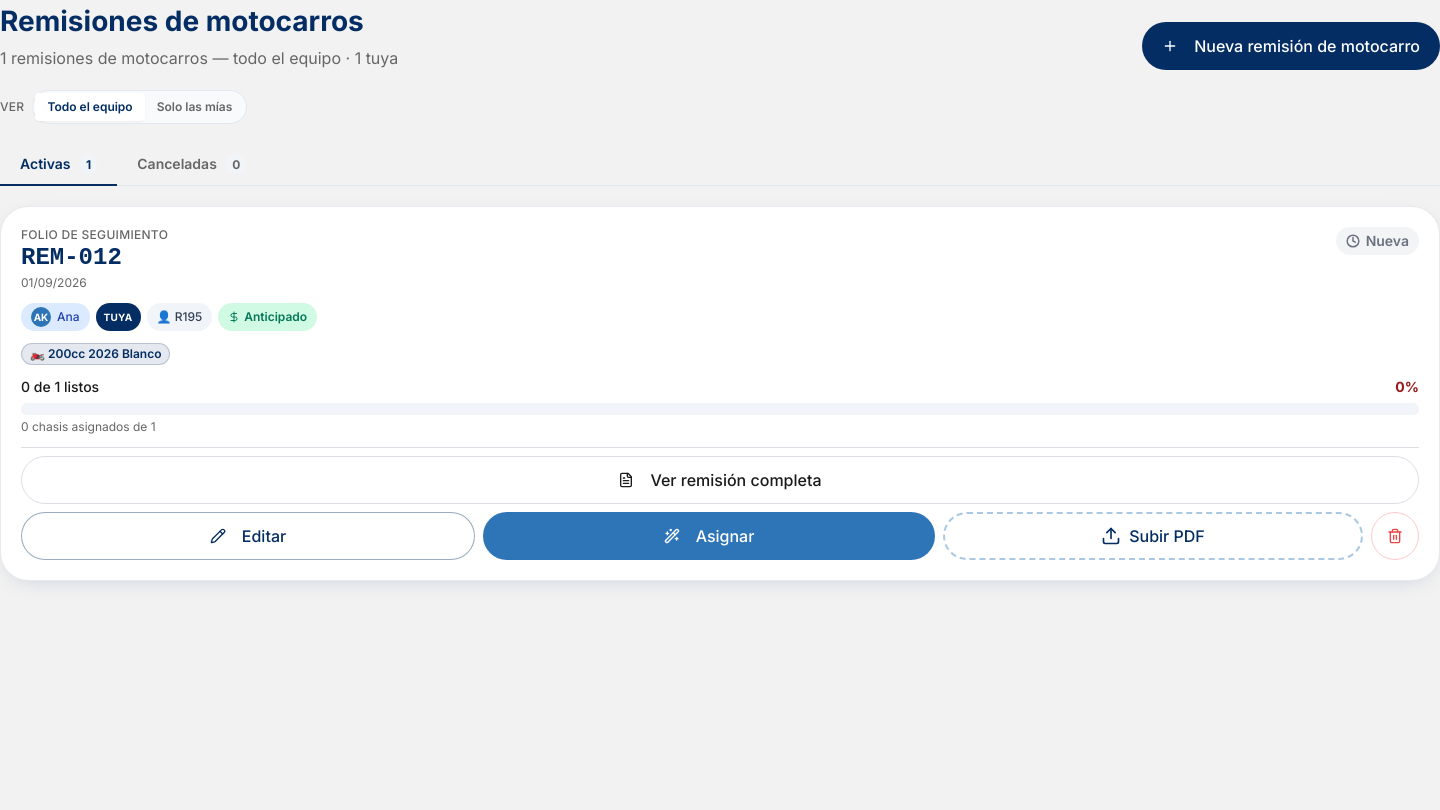
Test: Remisiones · editar y complementar › el diálogo de edición no guarda hasta que se escribe el motivo
The image size is (1440, 810).
Click the button "Editar" at (248, 536), box [21,512,475,560]
(page scrolled)
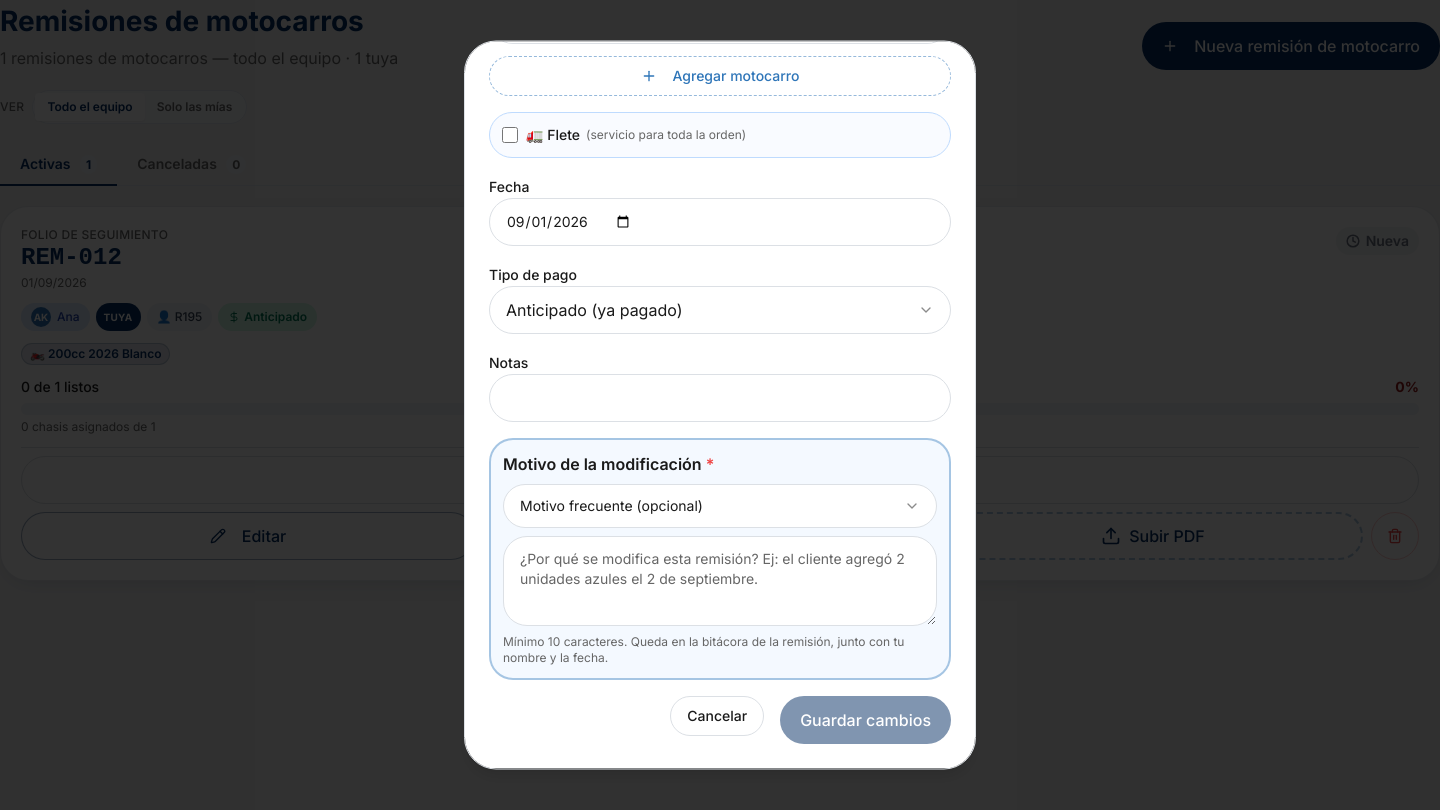
Result: the text "Motivo de la modificación" is shown at [503,454,702,474]
Result: the button "Guardar cambios" is disabled at [780,696,951,744]
Replace the text in the text box with "corto" at (720, 582), box [503,536,937,626]
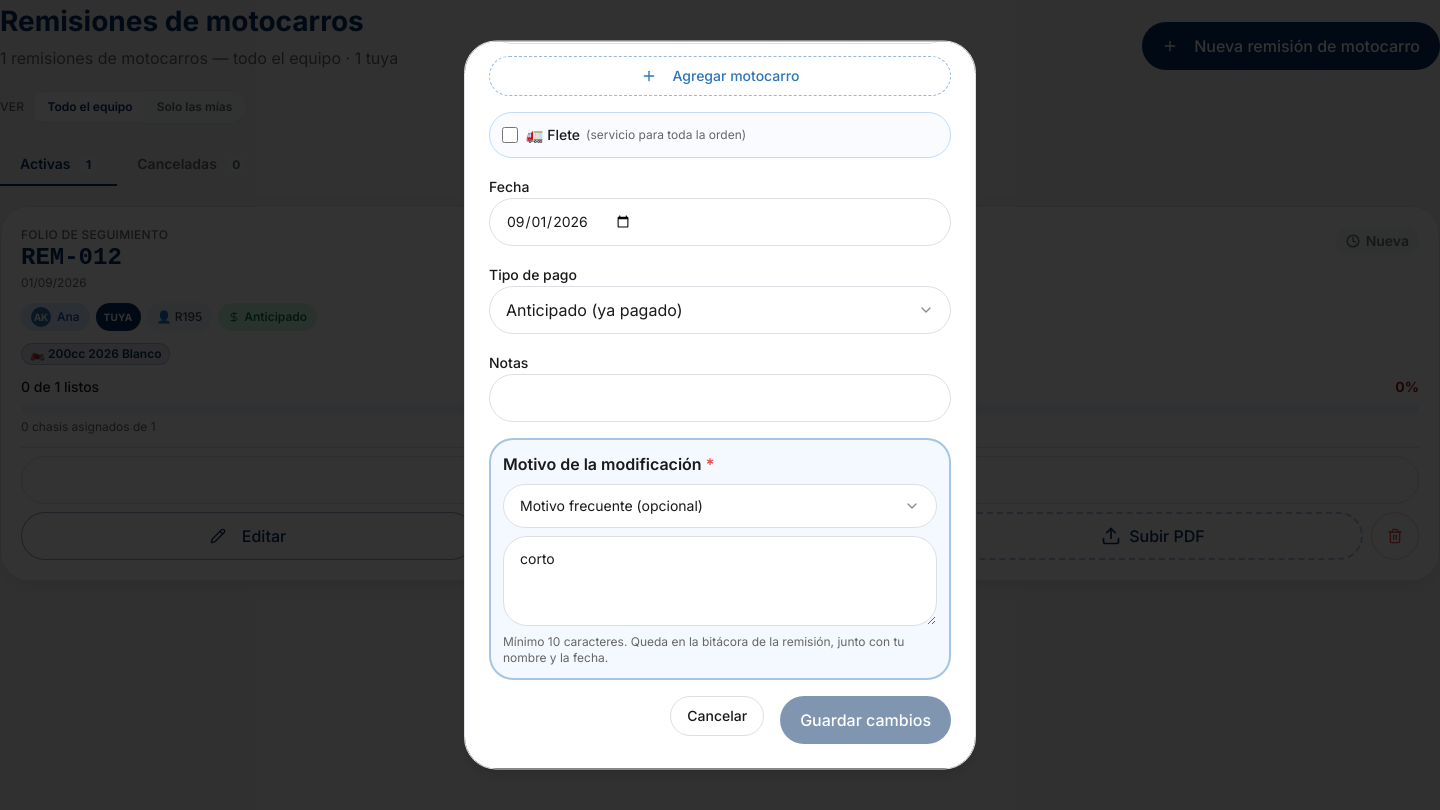
Result: the button "Guardar cambios" is disabled at [780,696,951,744]
Replace the text in the text box with "El cliente agregó dos unidades azules" at (720, 582), box [503,536,937,626]
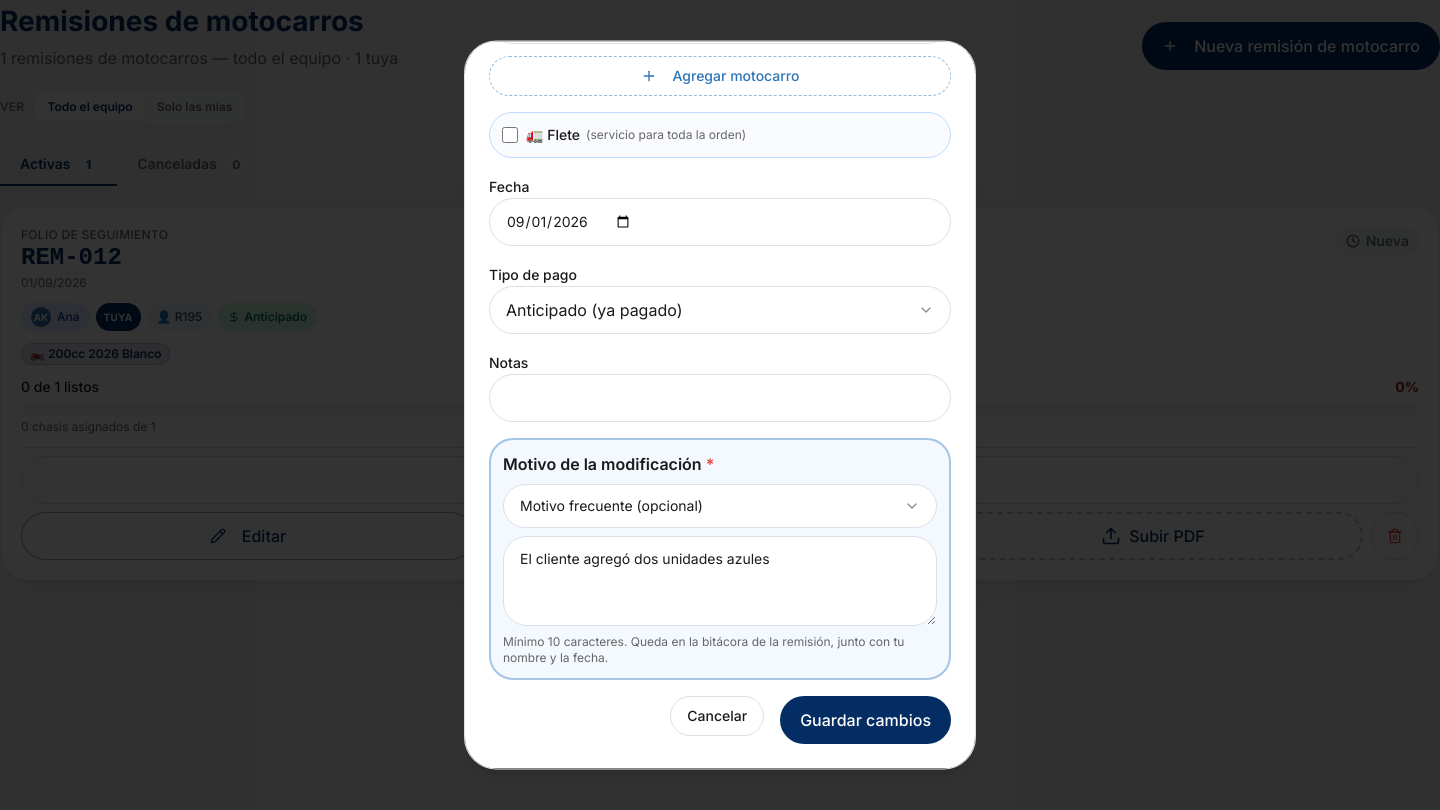
Result: the button "Guardar cambios" is enabled at [780,696,951,744]
